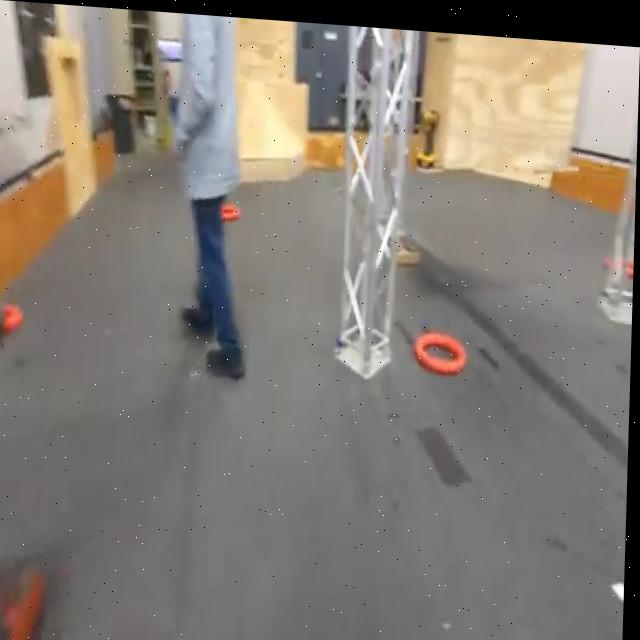note: (415, 324, 472, 368), (0, 302, 26, 329), (224, 198, 245, 220)
